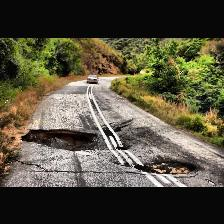pothole: (19, 126, 98, 150), (134, 159, 200, 175), (114, 144, 127, 150)
